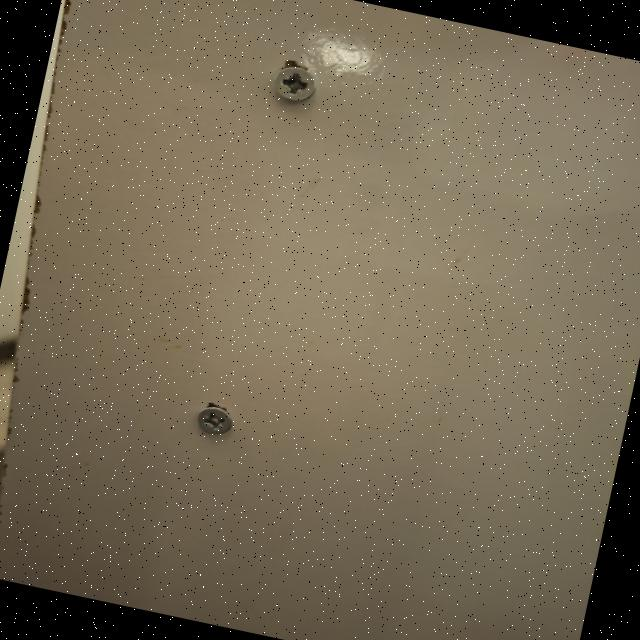Pozidriv: (187, 399, 240, 444), (267, 64, 320, 108)
